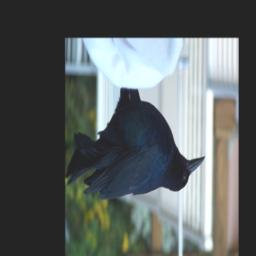Crow: (67, 89, 206, 201)
